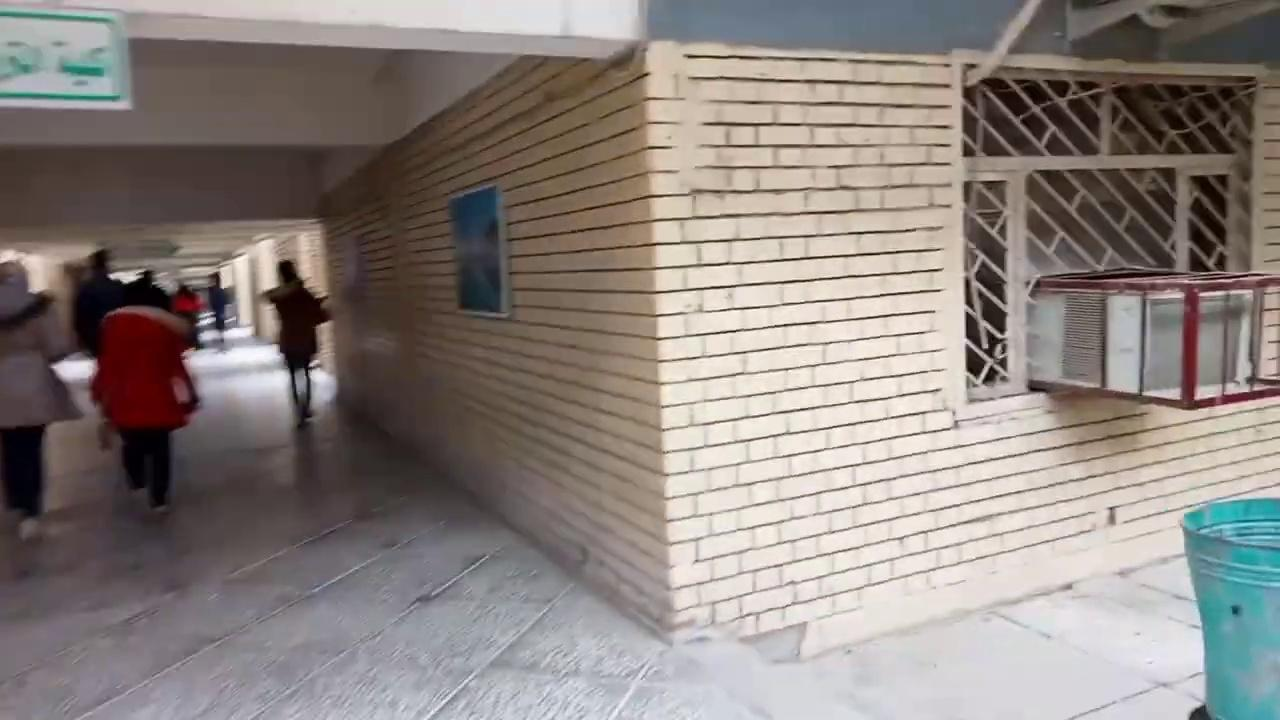person: (89, 278, 201, 514), (0, 258, 83, 541), (259, 258, 331, 429), (71, 248, 125, 451), (170, 282, 204, 349), (206, 271, 226, 343)
